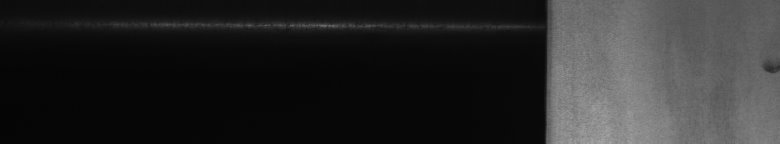fi: (760, 62, 776, 80)
